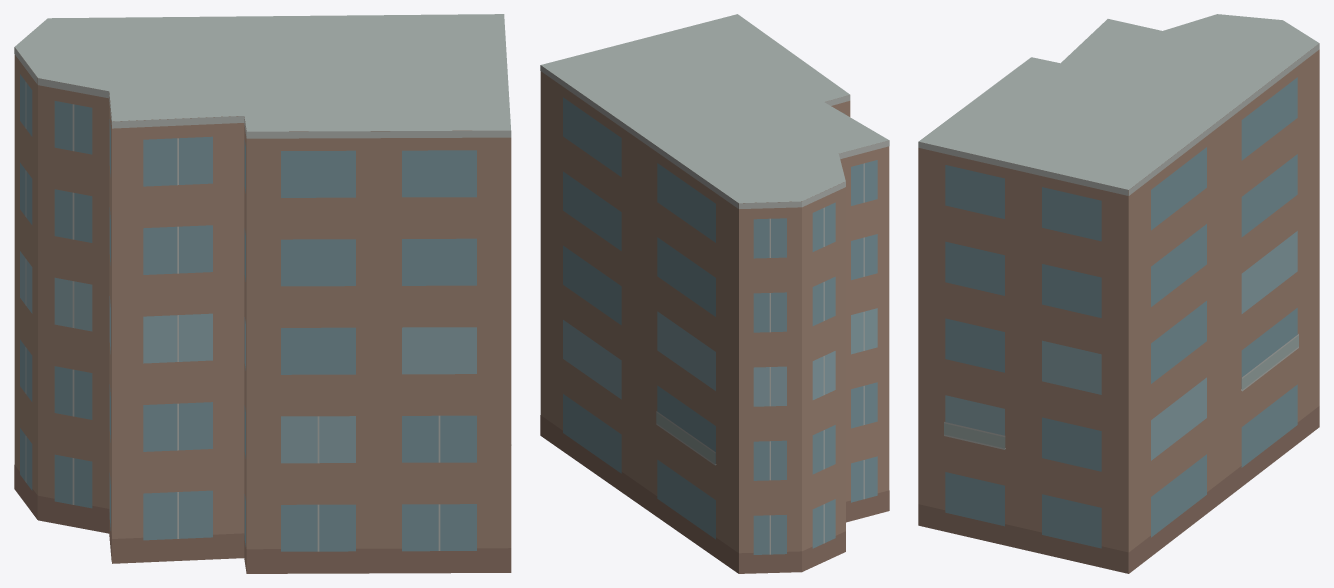
The model's file is survey-upis-32670236.glb.
The picture shows the model from 3 angles, left to right: view 1: azimuth 30°, elevation 25°; view 2: azimuth 150°, elevation 25°; view 3: azimuth 270°, elevation 25°; orthographic projection. The views are drawn at different scales.
Parts seen in each view (by area): view 1: survey-upis-32670236.tmp; view 2: survey-upis-32670236.tmp; view 3: survey-upis-32670236.tmp.
Part boxes in pixels (<box>): survey-upis-32670236.tmp: <box>14,14,511,573</box>; survey-upis-32670236.tmp: <box>540,14,889,573</box>; survey-upis-32670236.tmp: <box>918,14,1319,573</box>.
Bounding box in the file's own units: 15 × 15.25 × 14.45.
